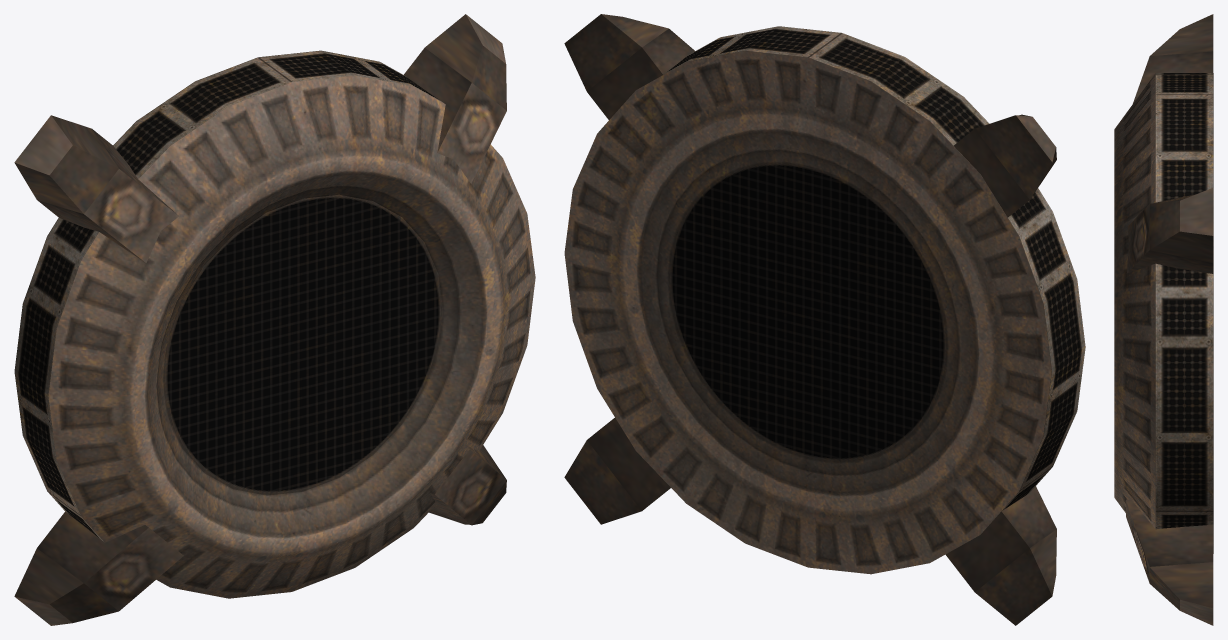
Rendered from vent_circle.fbx.
3 views of the same model, side by side, from view 1: azimuth 30°, elevation 25°; view 2: azimuth 150°, elevation 25°; view 3: azimuth 270°, elevation 25° (orthographic). The views are drawn at different scales.
Visible parts, largest first — view 1: Mesh; view 2: Mesh; view 3: Mesh.
Boxes of the visible parts, bbox=[...] form: Mesh: bbox=[14, 14, 535, 625]; Mesh: bbox=[564, 14, 1085, 625]; Mesh: bbox=[1114, 14, 1213, 625].
Bounding box in the file's own units: 60.86 × 61.71 × 12.52.
